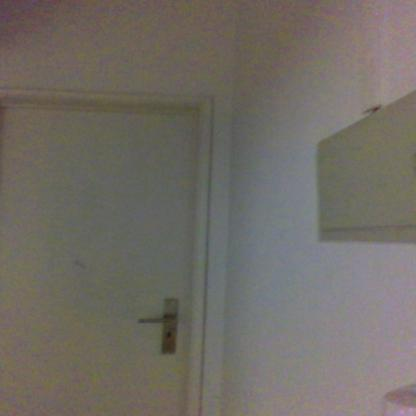door: (0, 104, 193, 415)
lever: (136, 316, 178, 324)
